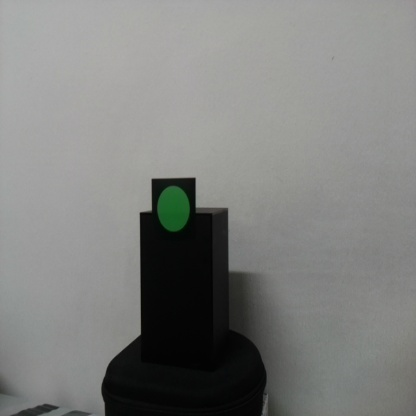id_5: (150, 178, 196, 240)
